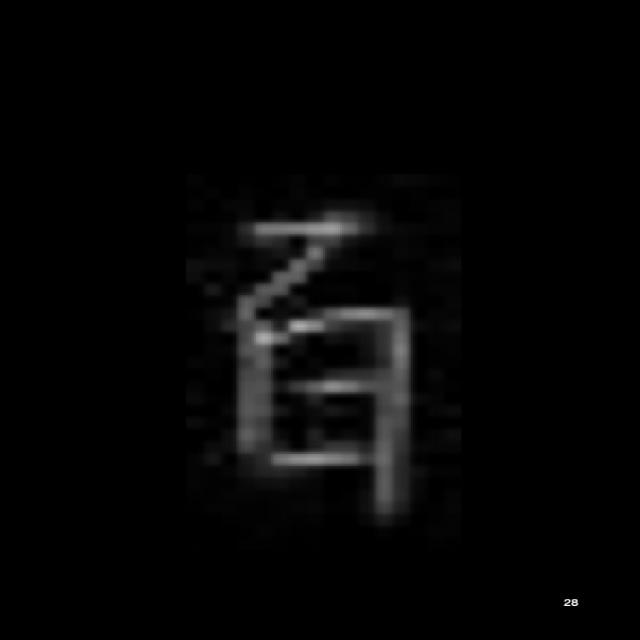100 -a hundred-: (204, 209, 428, 526)
